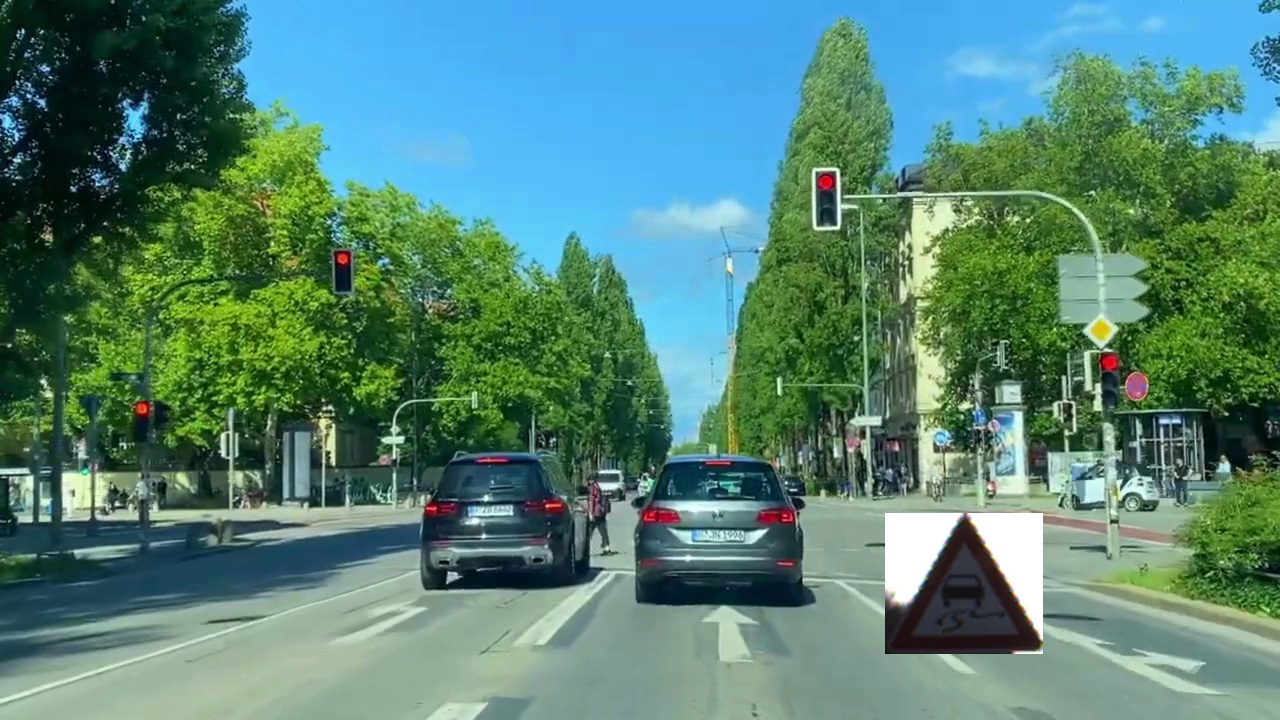Slippery: (885, 513, 1043, 654)
